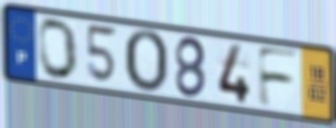4: (217, 42, 252, 105)
5: (84, 21, 119, 88)
8: (173, 34, 208, 101)
F: (255, 44, 302, 110)
O: (122, 27, 171, 96), (37, 17, 80, 82)
